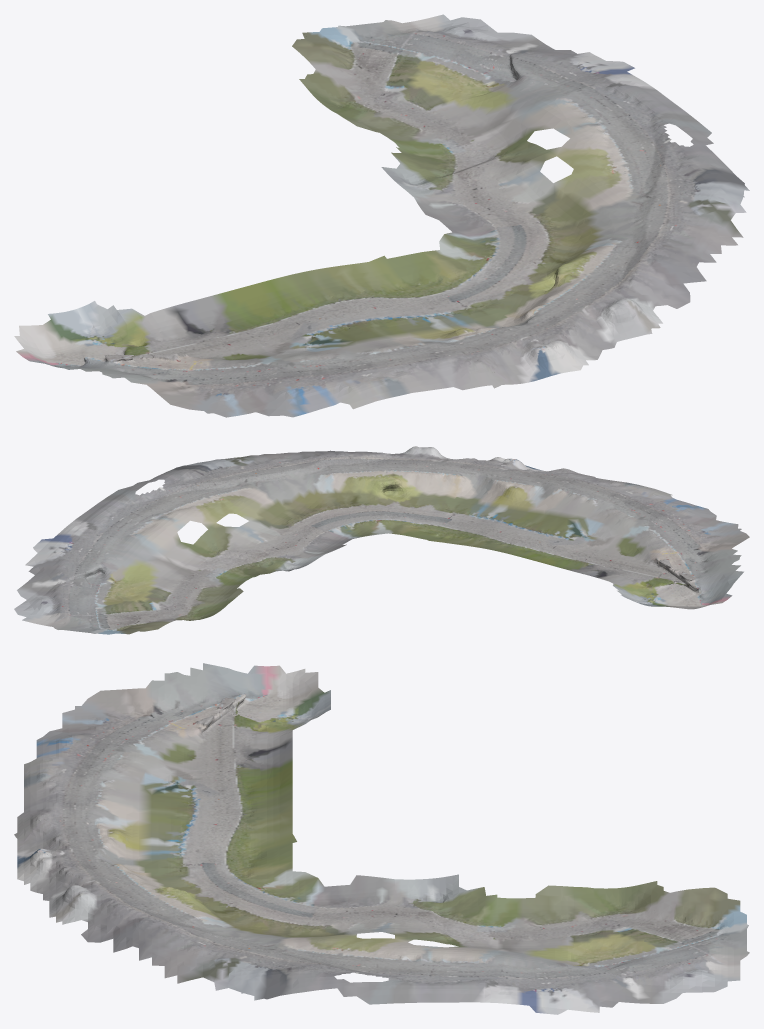
File: track_mesh.glb
3 renders of one model, top to bottom at view 1: azimuth 30°, elevation 25°; view 2: azimuth 150°, elevation 25°; view 3: azimuth 270°, elevation 25°, orthographic. The views are drawn at different scales.
Visible parts, largest first — view 1: world; view 2: world; view 3: world.
Part boxes in pixels (x1,y1,x2,y2): world: (14, 14, 749, 417); world: (14, 446, 749, 634); world: (14, 663, 749, 1014).
Bounding box in the file's own units: 225 × 9.32 × 203.
